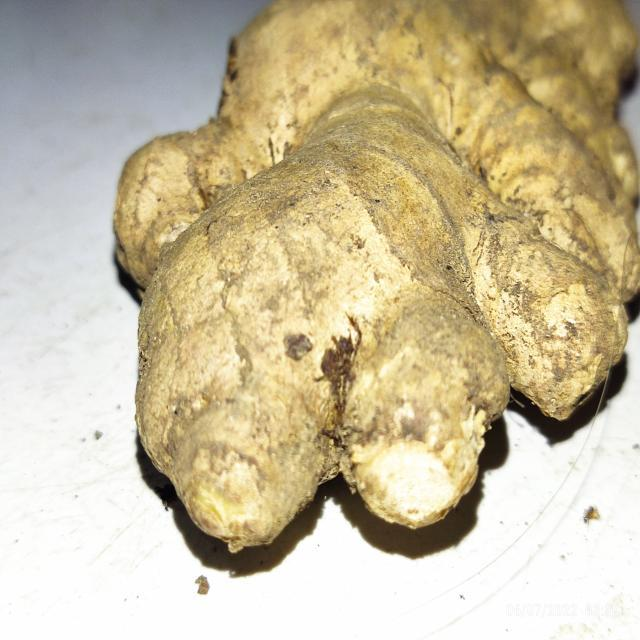ginger: (136, 0, 629, 540)
